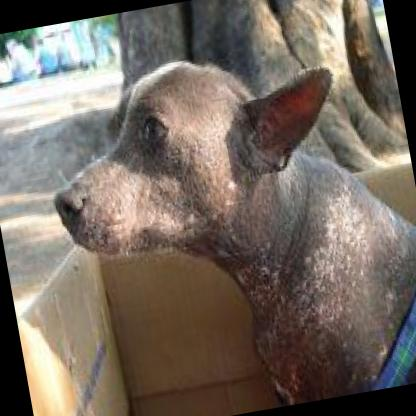Mexican_hairless: (28, 20, 416, 416)
